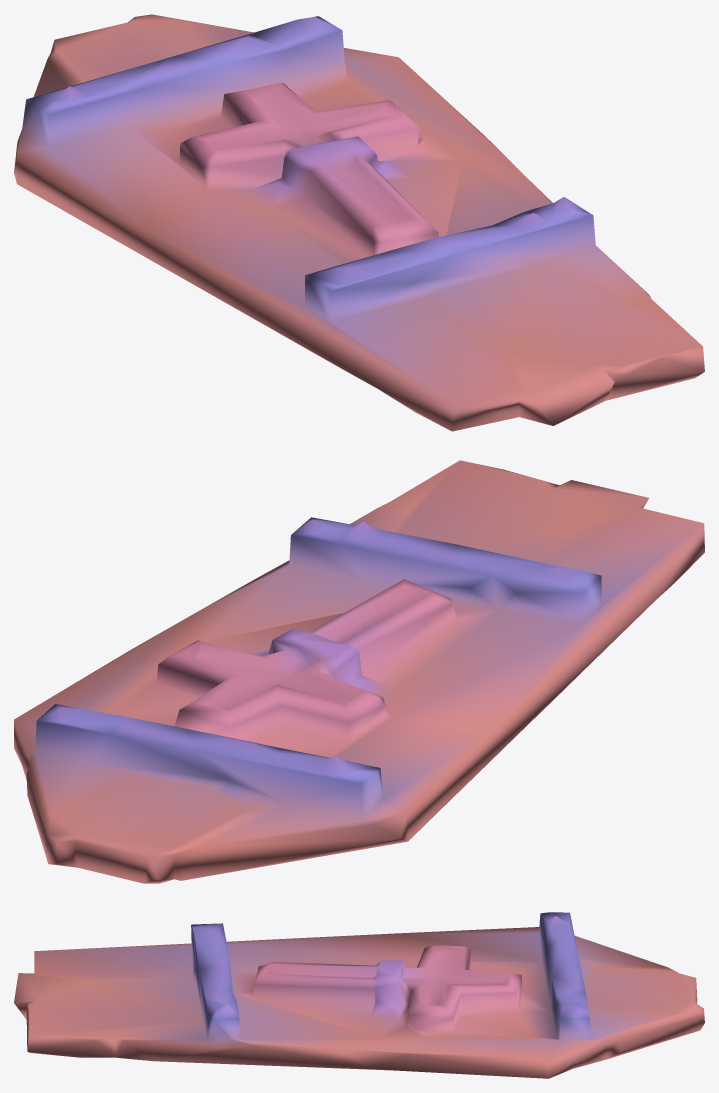
The model's file is Halloween_Coffin_Lid_01.fbx.
3 views of the same model, one above another, from view 1: azimuth 30°, elevation 25°; view 2: azimuth 150°, elevation 25°; view 3: azimuth 270°, elevation 25° (orthographic). The views are drawn at different scales.
Visible parts, largest first — view 1: Halloween_Coffin_Lid_01; view 2: Halloween_Coffin_Lid_01; view 3: Halloween_Coffin_Lid_01.
Part boxes in pixels (x1,y1,x2,y2): Halloween_Coffin_Lid_01: (14,14,704,431); Halloween_Coffin_Lid_01: (14,460,704,883); Halloween_Coffin_Lid_01: (14,912,704,1078).
Bounding box in the file's own units: 0.9263 × 0.1789 × 2.06.
